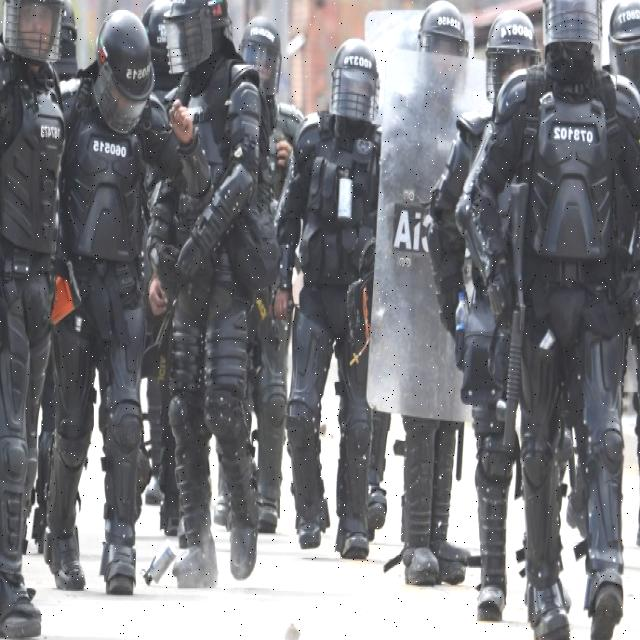police: (463, 0, 640, 640), (52, 10, 210, 608), (162, 0, 302, 588), (265, 35, 400, 572), (430, 0, 542, 639), (374, 0, 486, 608), (0, 0, 73, 640)
